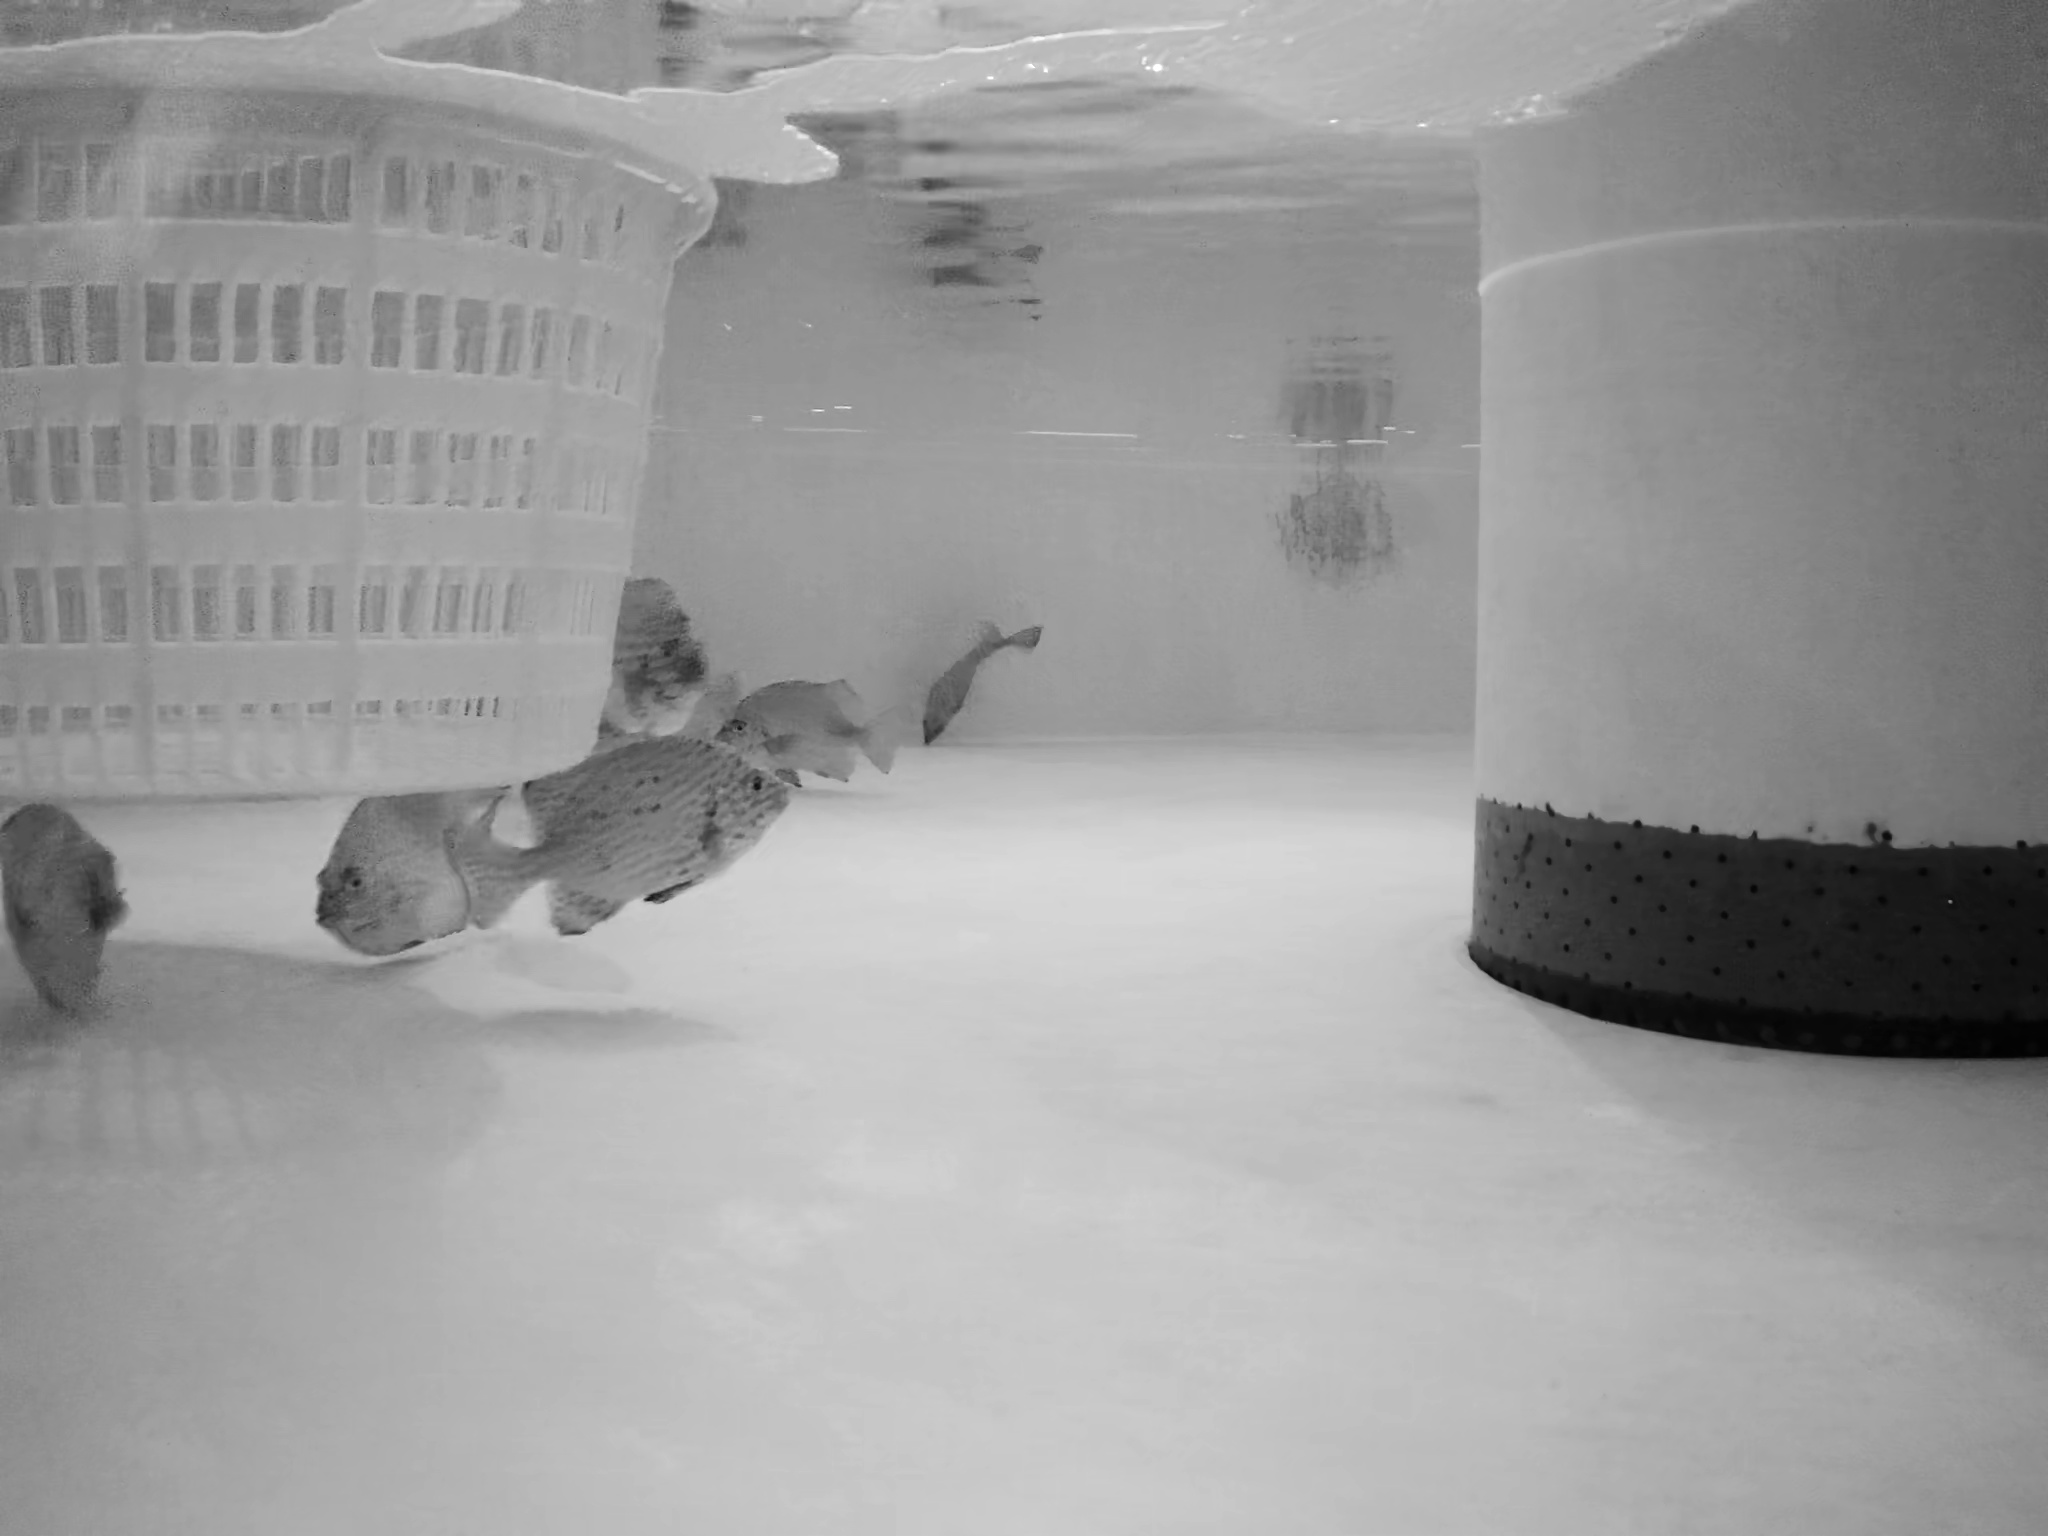fish: (437, 742, 787, 908), (313, 776, 519, 950), (2, 813, 129, 1015), (719, 671, 901, 795), (576, 561, 701, 729), (914, 613, 1047, 750)
